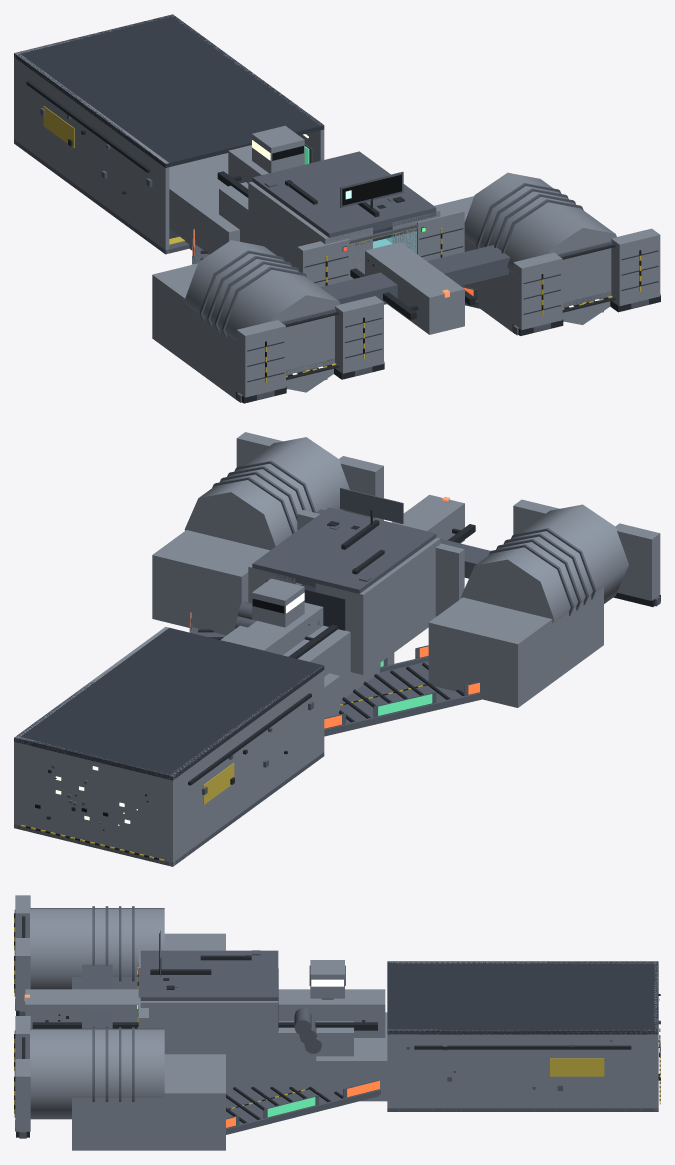
File: cradle-m.glb
3 views of the same model, one above another, from view 1: azimuth 30°, elevation 25°; view 2: azimuth 150°, elevation 25°; view 3: azimuth 270°, elevation 25° (orthographic). The views are drawn at different scales.
Visible parts, largest first — view 1: hallRoof, hallWallL, lightTubeL, lightTubeR, transferLiftShaft (×3), hangarRoof, spine, hallApron, hangarShellL, berthSMRDoorHouseL, berthSMRDoorHouseR, berthSMLDoorHouseL (+13 smaller); view 2: transferLiftShaft (×3), hallRoof, hallBackWall, hallWallL, lightTubeL, lightTubeR, hangarRoof, hangarShellL, spine, transferMainBed, berthSMLDoorHouseL, berthLBlastHouseL (+14 smaller); view 3: hallRoof, hallWallR, transferLiftShaft (×3), lightTubeR, lightTubeL, hangarShellR, spine, hangarRoof, hallApron, transferMainBed, controlCab, berthSMRDoorHouseR (+13 smaller).
Boxes of the visible parts, bbox=[...] form: hallRoof: bbox=[14, 14, 324, 167]; hallWallL: bbox=[14, 52, 169, 253]; lightTubeL: bbox=[184, 240, 340, 392]; lightTubeR: bbox=[464, 172, 616, 324]; transferLiftShaft (×3): bbox=[152, 182, 603, 400]; hangarRoof: bbox=[252, 151, 436, 240]; spine: bbox=[228, 145, 464, 334]; hallApron: bbox=[169, 153, 239, 254]; hangarShellL: bbox=[248, 181, 372, 279]; berthSMRDoorHouseL: bbox=[513, 252, 562, 329]; berthSMRDoorHouseR: bbox=[611, 228, 660, 306]; berthSMLDoorHouseL: bbox=[236, 320, 285, 397]; transferLiftShaft (×3): bbox=[152, 530, 603, 707]; hallRoof: bbox=[14, 627, 324, 780]; hallBackWall: bbox=[14, 736, 175, 866]; hallWallL: bbox=[169, 665, 324, 866]; lightTubeL: bbox=[461, 504, 628, 623]; lightTubeR: bbox=[184, 437, 349, 550]; hangarRoof: bbox=[252, 507, 436, 593]; hangarShellL: bbox=[315, 537, 440, 674]; spine: bbox=[228, 494, 464, 655]; transferMainBed: bbox=[324, 661, 481, 736]; berthSMLDoorHouseL: bbox=[615, 523, 660, 600]; berthLBlastHouseL: bbox=[435, 543, 464, 616]; hallRoof: bbox=[387, 961, 658, 1034]; hallWallR: bbox=[387, 1029, 658, 1111]; transferLiftShaft (×3): bbox=[72, 933, 353, 1150]; lightTubeR: bbox=[30, 1028, 164, 1119]; lightTubeL: bbox=[30, 908, 164, 989]; hangarShellR: bbox=[140, 1001, 278, 1074]; spine: bbox=[25, 989, 385, 1037]; hangarRoof: bbox=[140, 950, 278, 1000]; hallApron: bbox=[316, 1012, 387, 1101]; transferMainBed: bbox=[226, 1089, 378, 1134]; controlCab: bbox=[310, 960, 344, 998]; berthSMRDoorHouseR: bbox=[15, 1059, 30, 1131].
Bounding box in the file's own units: 42.59 × 14.37 × 63.49.
